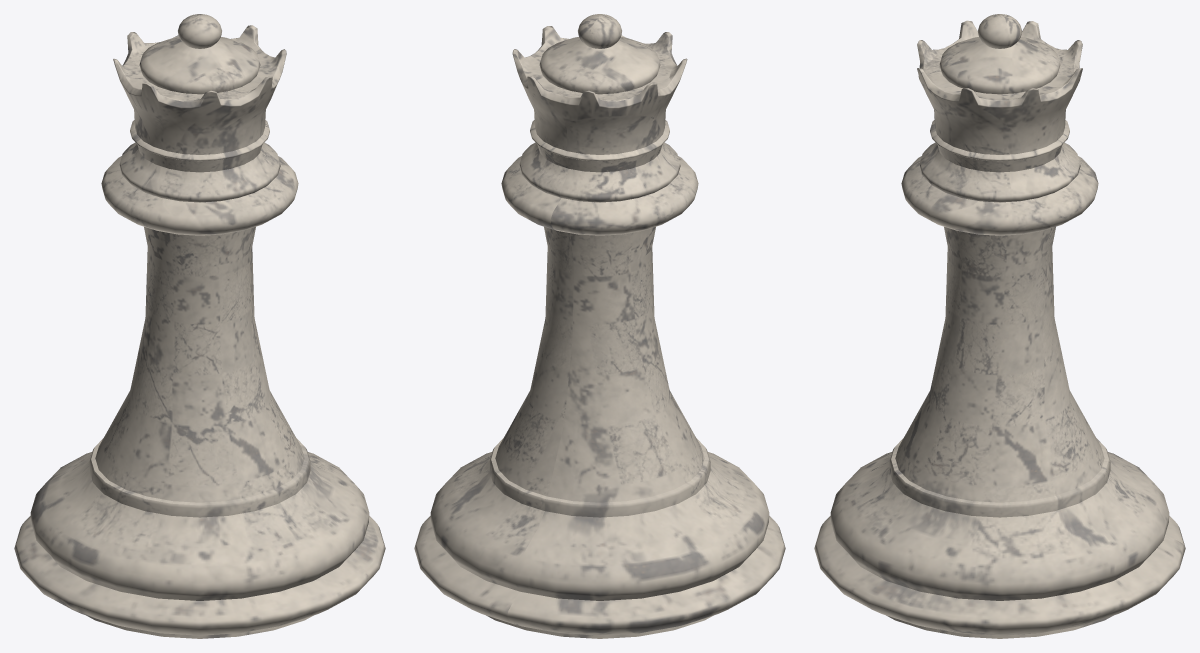
Rendered from mermer_q_w.glb.
The picture shows the model from 3 angles, left to right: view 1: azimuth 30°, elevation 25°; view 2: azimuth 150°, elevation 25°; view 3: azimuth 270°, elevation 25°; orthographic projection.
Visible parts, largest first — view 1: SM_Queen; view 2: SM_Queen; view 3: SM_Queen.
Part boxes in pixels (x1,y1,x2,y2): SM_Queen: [14, 14, 385, 638]; SM_Queen: [414, 14, 785, 638]; SM_Queen: [814, 14, 1185, 638].
Size of the model in its own units: 4.33 by 7.17 by 4.31.
1 material, 1 textured.
